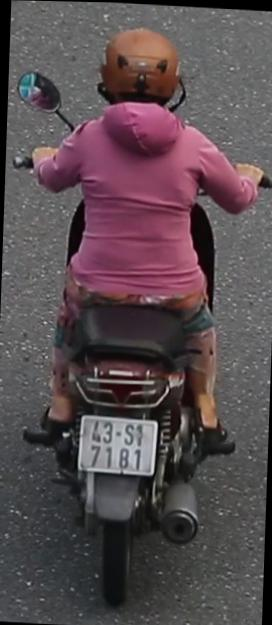LP: (76, 411, 162, 482)
helmet: (92, 19, 192, 131)
